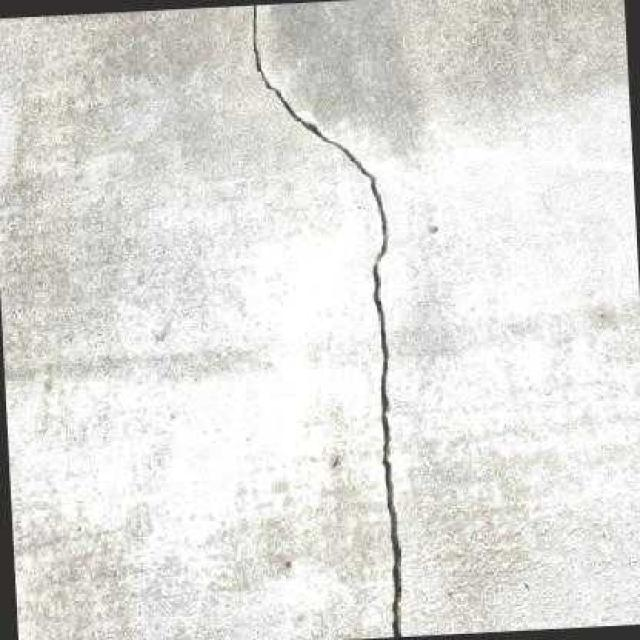D00: (250, 3, 400, 637)
